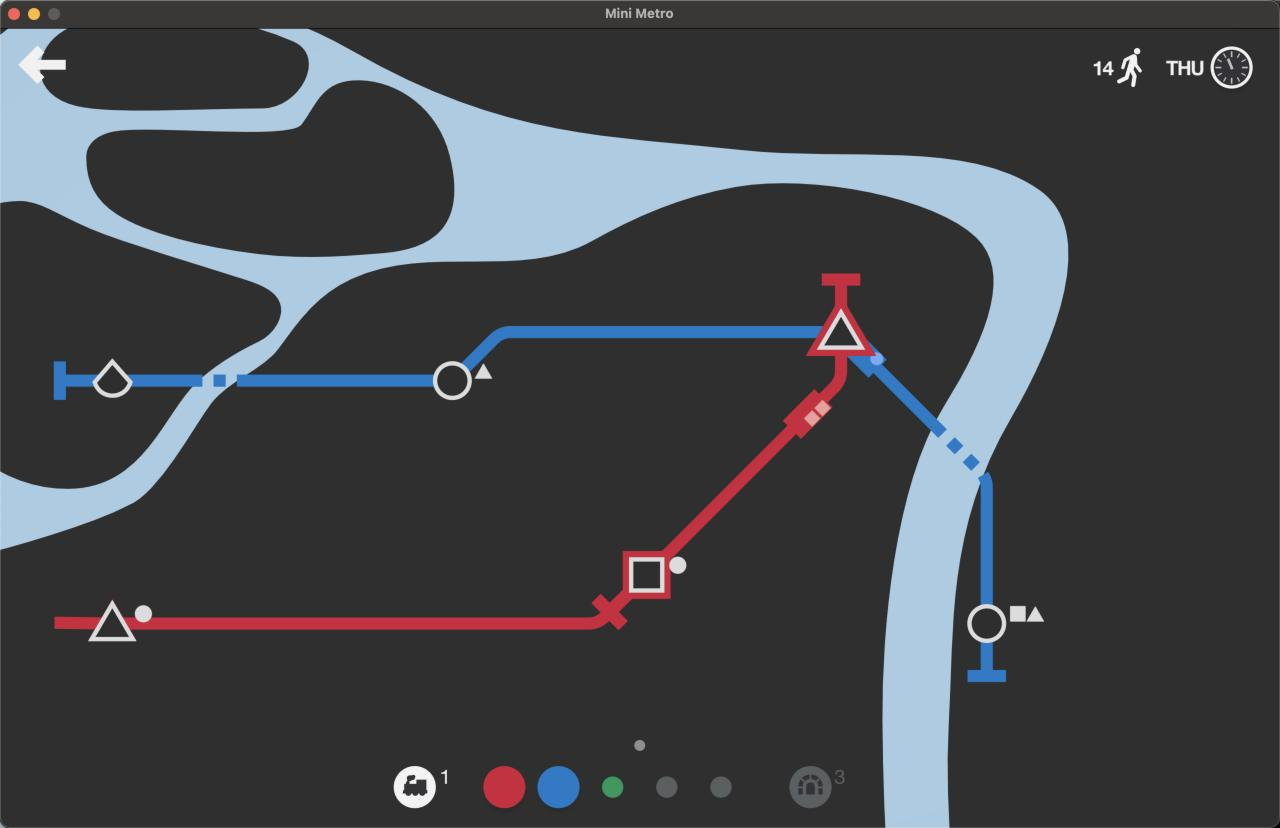CIRCLE: (432, 359, 473, 401), (966, 603, 1007, 644)
SQUARE: (623, 553, 668, 599)
TRIANGLE: (815, 306, 867, 354), (86, 598, 140, 643)
WEDGE: (92, 357, 133, 398)
